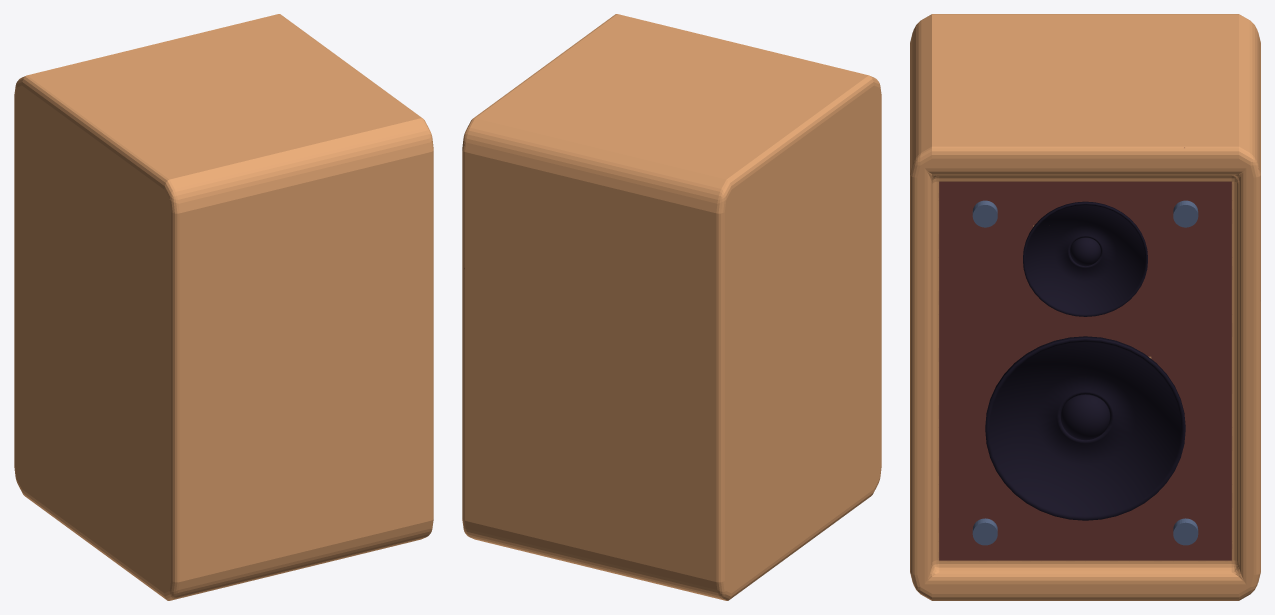
File: glosnik.fbx
The picture shows the model from 3 angles, left to right: view 1: azimuth 30°, elevation 25°; view 2: azimuth 150°, elevation 25°; view 3: azimuth 270°, elevation 25°; orthographic projection. The views are drawn at different scales.
Parts seen in each view (by area): view 1: Cube; view 2: Cube; view 3: Cube.
Part boxes in pixels (left/top/right/bottom): Cube: left=14, top=14, right=433, bottom=600; Cube: left=462, top=14, right=881, bottom=600; Cube: left=910, top=14, right=1260, bottom=600.
Size of the model in its own units: 130 by 200 by 140.
